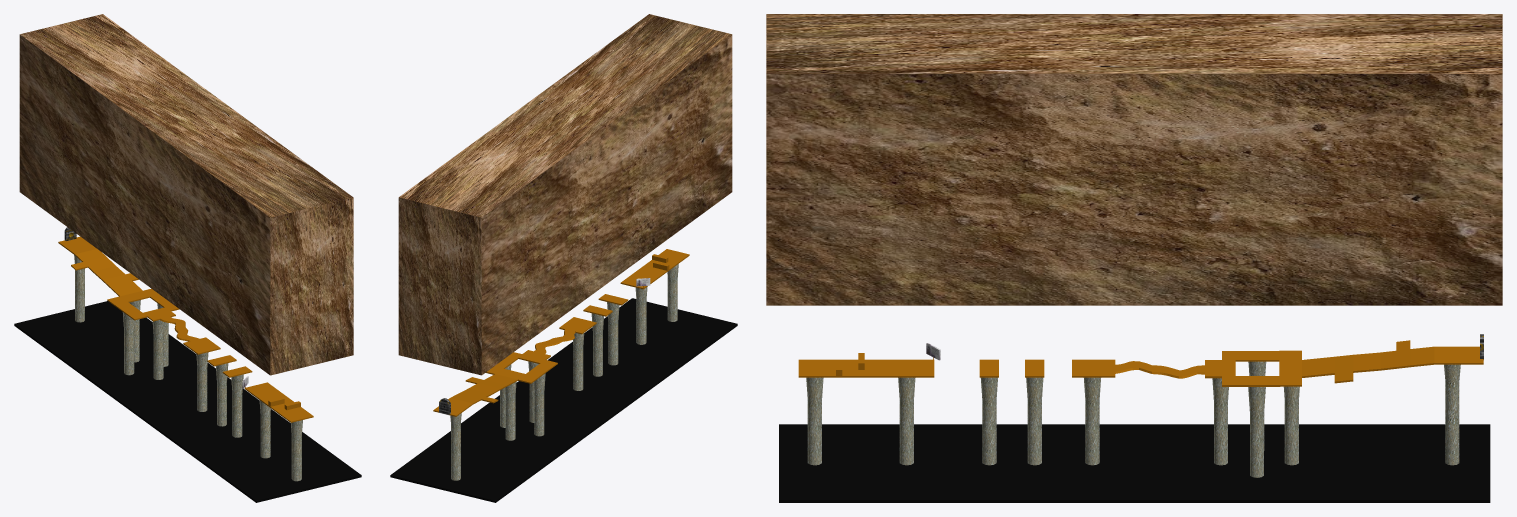
Rendered from Map.FBX.
The picture shows the model from 3 angles, left to right: view 1: azimuth 30°, elevation 25°; view 2: azimuth 150°, elevation 25°; view 3: azimuth 270°, elevation 25°; orthographic projection. The views are drawn at different scales.
Visible parts, largest first — view 1: Box004, undergrand, floor005, floor001, floor003, Pillar010, Pillar001, Pillar005, Pillar009, Pillar004, Pillar003, Pillar002 (+1 smaller); view 2: Box004, undergrand, floor005, floor001, floor003, Pillar010, Pillar007, Pillar009, Pillar003, Pillar002, Pillar004, Pillar006 (+1 smaller); view 3: Box004, undergrand, floor005, floor001, floor003, Pillar007, Pillar001, Pillar002, Pillar003, Pillar010, Pillar004, Pillar008 (+2 smaller).
Boxes of the visible parts, box(x1,y1,x2,y2) form: Box004: box(19, 14, 353, 375); undergrand: box(14, 301, 361, 502); floor005: box(58, 236, 158, 305); floor001: box(244, 382, 313, 422); floor003: box(160, 316, 220, 354); Pillar010: box(231, 374, 243, 437); Pillar001: box(291, 420, 302, 481); Pillar005: box(152, 320, 164, 379); Pillar009: box(122, 312, 134, 375); Pillar004: box(196, 352, 208, 411); Pillar003: box(216, 363, 228, 426); Pillar002: box(259, 400, 270, 458); Box004: box(398, 14, 732, 375); undergrand: box(390, 298, 737, 502); floor005: box(433, 366, 538, 416); floor001: box(620, 249, 689, 289); floor003: box(534, 317, 596, 353); Pillar010: box(607, 302, 619, 365); Pillar007: box(450, 413, 461, 480); Pillar009: box(533, 373, 545, 436); Pillar003: box(591, 313, 603, 376); Pillar002: box(635, 286, 647, 344); Pillar004: box(573, 333, 584, 390); Pillar006: box(505, 381, 516, 440); Box004: box(766, 14, 1502, 305); undergrand: box(779, 424, 1490, 502); floor005: box(1279, 340, 1483, 386); floor001: box(798, 359, 934, 377); floor003: box(1072, 359, 1205, 378); Pillar007: box(1444, 364, 1460, 465); Pillar001: box(806, 377, 823, 465); Pillar002: box(898, 377, 915, 465); Pillar003: box(1026, 377, 1043, 465); Pillar010: box(980, 377, 997, 465); Pillar004: box(1084, 377, 1100, 465); Pillar008: box(1248, 387, 1265, 477).
Size of the model in its own units: 462 by 1201 by 1900.
